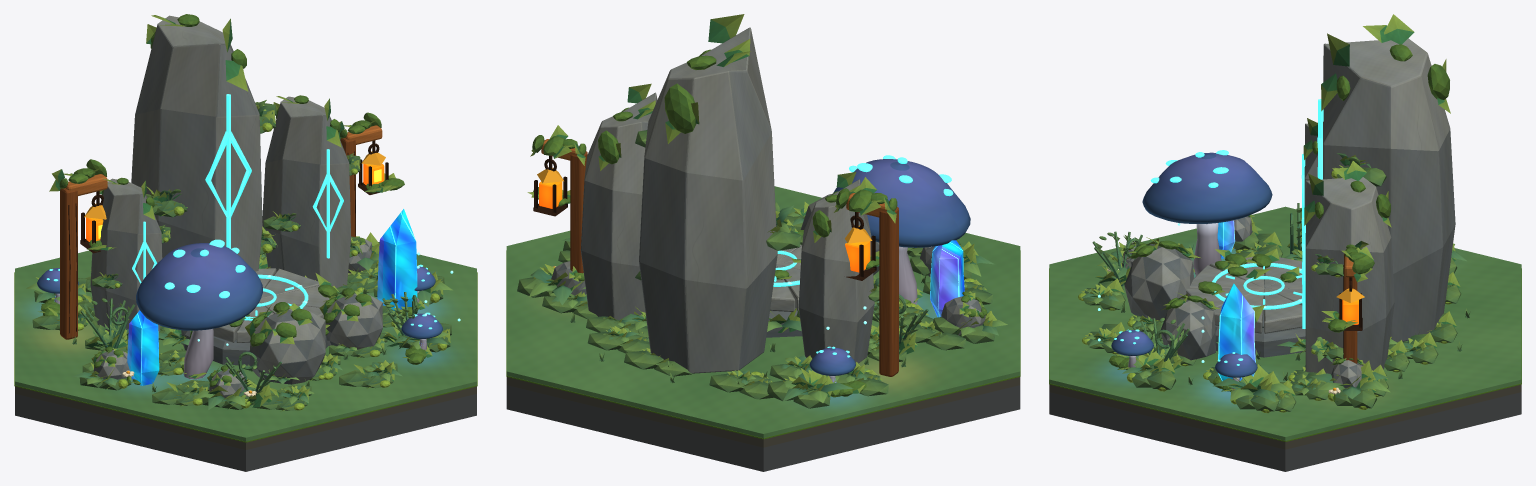
Rendered from hex_rune_shrine.glb.
The picture shows the model from 3 angles, left to right: view 1: azimuth 30°, elevation 25°; view 2: azimuth 150°, elevation 25°; view 3: azimuth 270°, elevation 25°; orthographic projection. The views are drawn at different scales.
Visible parts, largest first — view 1: Standard hex meadow top.001, Weathered shrine monolith.001, Weathered shrine monolith.003, Standard hex stone foundation.001, Broad faceted mushroom cap.001, Weathered shrine monolith.002, Angular mossy forest boulder.001, Standard hex earth layer.001, Faceted magical crystal.001, Woodland lantern upright.001, Angular mossy forest boulder.002, Faceted magical crystal.002 (+11 smaller); view 2: Weathered shrine monolith.001, Standard hex meadow top.001, Standard hex stone foundation.001, Weathered shrine monolith.003, Weathered shrine monolith.002, Broad faceted mushroom cap.001, Standard hex earth layer.001, Woodland lantern upright.001, Faceted magical crystal.002, Woodland lantern upright.002, Woodland shared moss cushion.120, Broad faceted mushroom cap.003 (+9 smaller); view 3: Standard hex meadow top.001, Weathered shrine monolith.001, Weathered shrine monolith.003, Standard hex stone foundation.001, Broad faceted mushroom cap.001, Standard hex earth layer.001, Angular mossy forest boulder.001, Angular mossy forest boulder.002, Faceted magical crystal.001, Shrine stone pedestal.001, Radial shrine paving stone.008, Curving luminous mushroom stem.001 (+11 smaller).
Boxes of the visible parts, x1,y1,x2,y2 form: Standard hex meadow top.001: (15,250,476,441); Weathered shrine monolith.001: (131,15,262,271); Weathered shrine monolith.003: (262,96,351,287); Standard hex stone foundation.001: (15,394,476,471); Broad faceted mushroom cap.001: (136,243,262,330); Weathered shrine monolith.002: (90,178,162,332); Angular mossy forest boulder.001: (249,309,325,384); Standard hex earth layer.001: (15,386,476,449); Faceted magical crystal.001: (377,209,417,310); Woodland lantern upright.001: (60,188,77,339); Angular mossy forest boulder.002: (325,293,382,349); Faceted magical crystal.002: (127,310,159,385); Weathered shrine monolith.001: (639,27,777,373); Standard hex meadow top.001: (506,186,1020,438); Standard hex stone foundation.001: (506,385,1020,471); Weathered shrine monolith.003: (580,92,657,319); Weathered shrine monolith.002: (798,179,874,363); Broad faceted mushroom cap.001: (833,159,970,247); Standard hex earth layer.001: (506,377,1020,447); Woodland lantern upright.001: (879,207,898,376); Faceted magical crystal.002: (930,240,964,317); Woodland lantern upright.002: (570,151,587,273); Woodland shared moss cushion.120: (664,83,696,133); Broad faceted mushroom cap.003: (809,347,855,375); Standard hex meadow top.001: (1049,206,1521,440); Weathered shrine monolith.001: (1323,38,1455,341); Weathered shrine monolith.003: (1305,177,1394,373); Standard hex stone foundation.001: (1049,392,1521,471); Broad faceted mushroom cap.001: (1142,152,1272,223); Standard hex earth layer.001: (1049,384,1521,449); Angular mossy forest boulder.001: (1124,244,1193,320); Angular mossy forest boulder.002: (1161,298,1215,360); Faceted magical crystal.001: (1218,283,1255,381); Shrine stone pedestal.001: (1215,268,1305,357); Radial shrine paving stone.008: (1264,288,1302,333); Curving luminous mushroom stem.001: (1193,223,1221,275).
Bounding box in the file's own units: 5.11 × 3.32 × 4.42.
47 materials, 34 textured.
